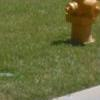Hydrant: (57, 0, 100, 52)
